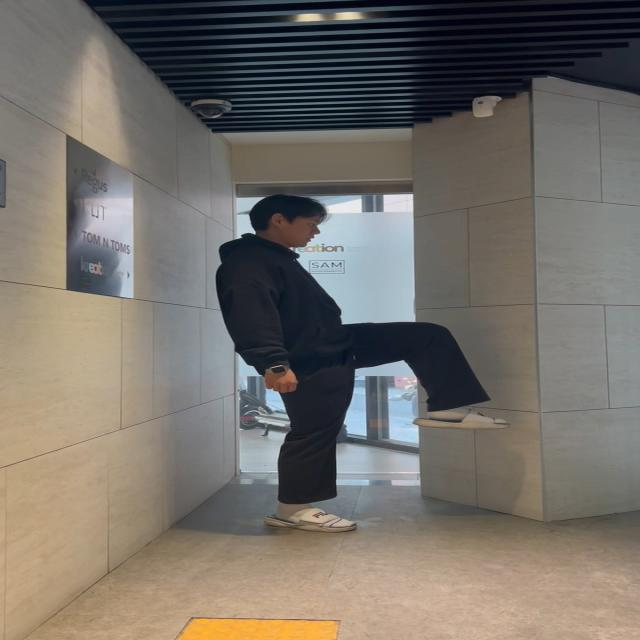knee: (338, 303, 542, 451)
